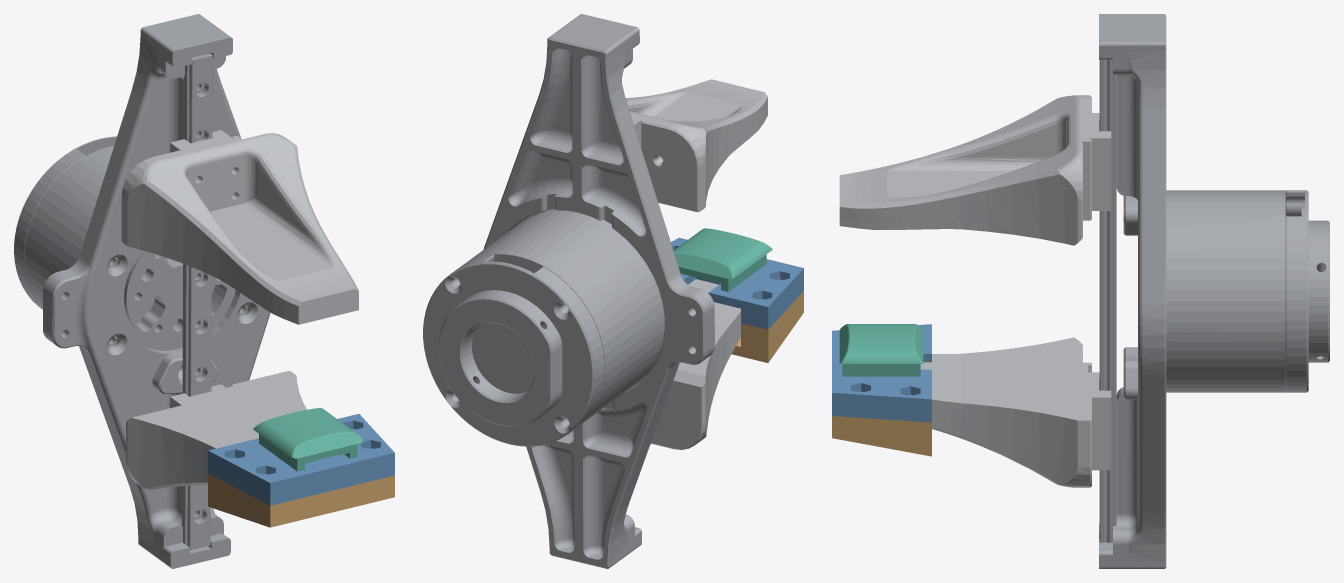
File: piper_m2324-reference_assembly_open50.glb
The picture shows the model from 3 angles, left to right: view 1: azimuth 30°, elevation 25°; view 2: azimuth 150°, elevation 25°; view 3: azimuth 270°, elevation 25°; orthographic projection. The views are drawn at different scales.
Parts seen in each view (by area): view 1: gripper_base, finger_2, finger_1, inner_plate, outer_roof, m2324_reference; view 2: gripper_base, finger_2, finger_1, m2324_reference, inner_plate, outer_roof; view 3: gripper_base, finger_2, finger_1, inner_plate, m2324_reference, outer_roof.
Part boxes in pixels (<box>): gripper_base: <box>14,14,270,568</box>; finger_2: <box>121,130,358,324</box>; finger_1: <box>126,371,306,489</box>; inner_plate: <box>208,414,394,505</box>; outer_roof: <box>208,473,394,527</box>; m2324_reference: <box>253,408,363,471</box>; gripper_base: <box>423,14,714,568</box>; finger_2: <box>625,79,767,212</box>; finger_1: <box>650,279,740,449</box>; m2324_reference: <box>673,228,772,291</box>; inner_plate: <box>671,237,803,329</box>; outer_roof: <box>731,291,803,362</box>; gripper_base: <box>1099,14,1329,568</box>; finger_2: <box>839,95,1111,245</box>; finger_1: <box>920,337,1111,487</box>; inner_plate: <box>832,324,931,422</box>; m2324_reference: <box>839,324,923,376</box>; outer_roof: <box>832,416,931,456</box>.
Bounding box in the file's own units: 0.075 × 0.1641 × 0.1401.
